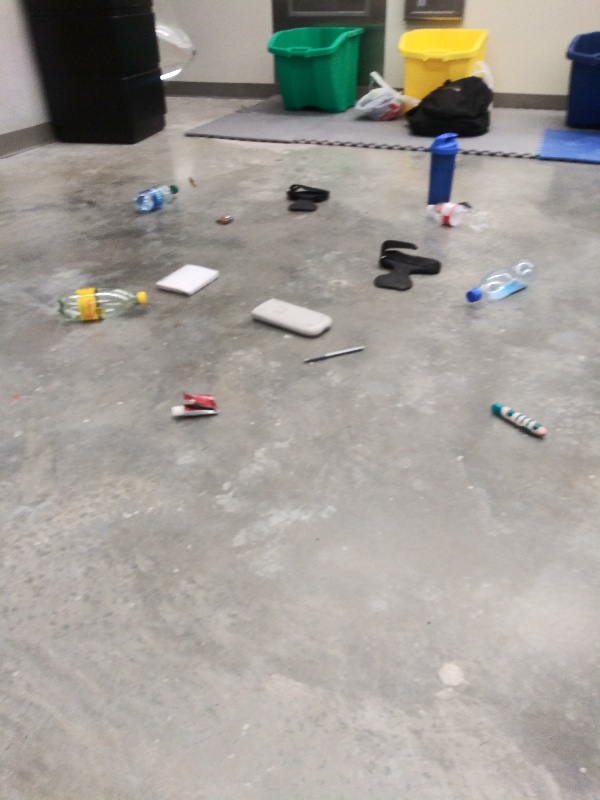bottle: (459, 256, 544, 306), (53, 285, 153, 326), (420, 200, 496, 238), (132, 177, 185, 215)
